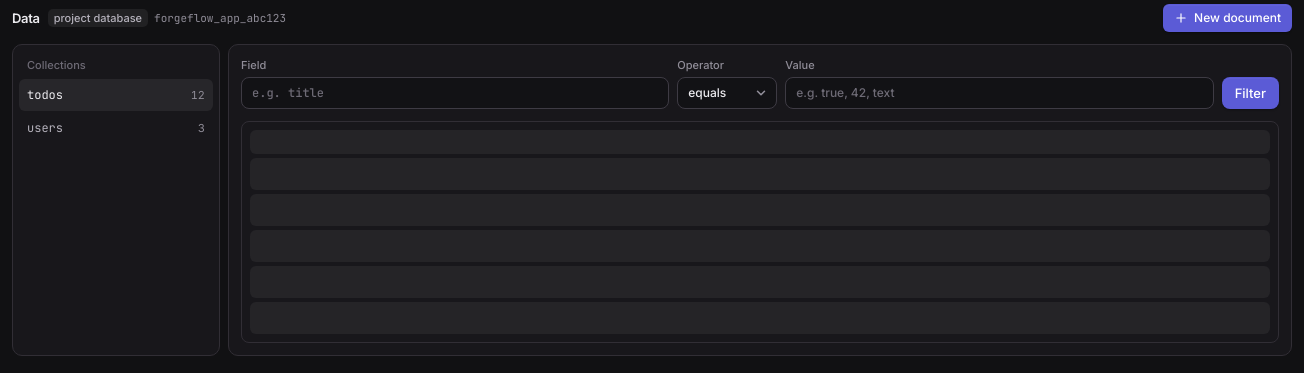
DataBrowser wiring › loads the documents of a collection the user selects
Click the button with test id "collection-users": (116, 128) [19,112,213,144]
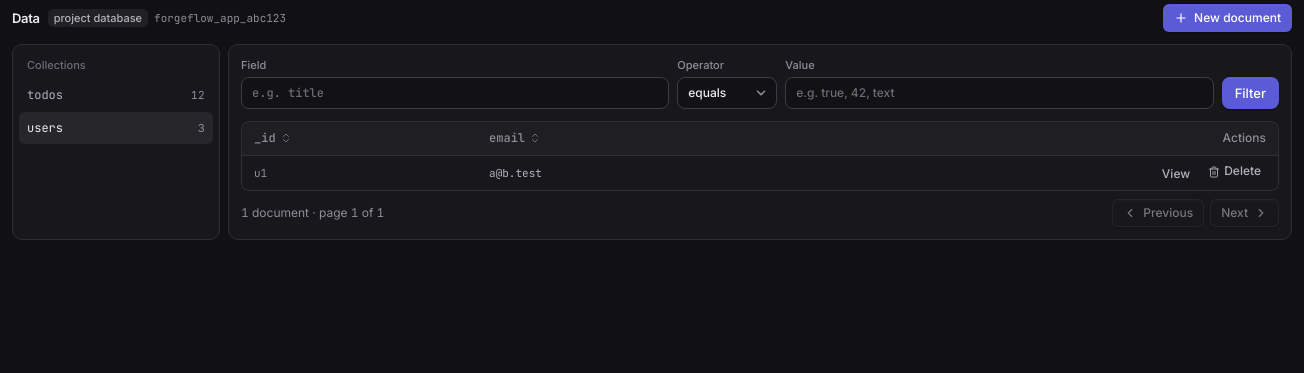
Now the table with test id "doc-table" shows "a@b.test", box [489,166,542,180]
